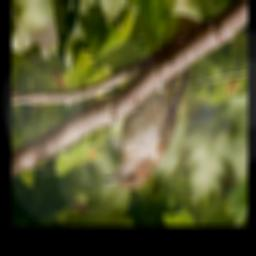Cuckoo: (102, 13, 200, 193)
